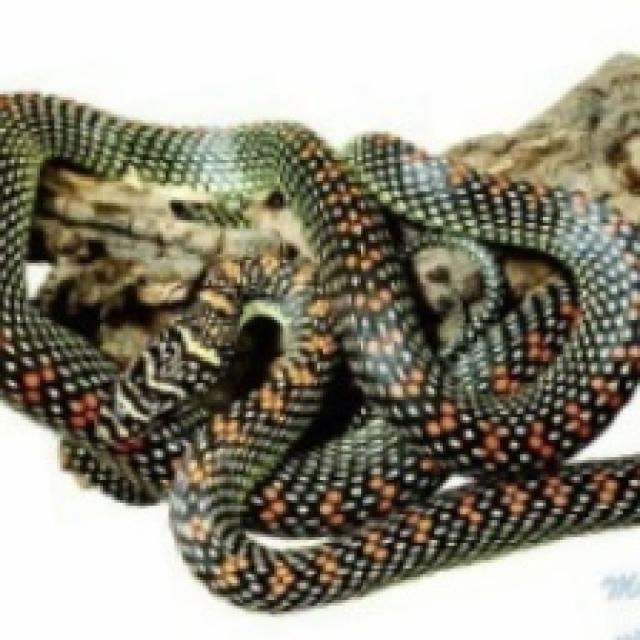paradise tree snake: (0, 94, 637, 609)
